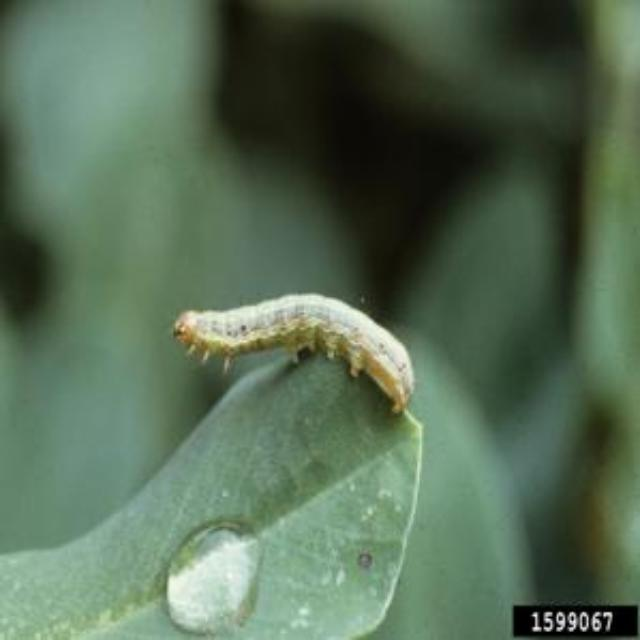Beet armyworm: (156, 270, 438, 434)
